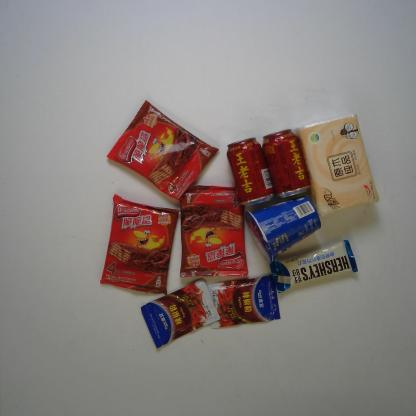Chocolate: (268, 239, 359, 294)
Dessert: (105, 99, 220, 201), (98, 193, 180, 296), (177, 183, 250, 278), (244, 195, 322, 261)
Drink: (224, 136, 275, 207), (262, 127, 312, 199)
Seasoner: (140, 278, 220, 349), (206, 274, 282, 329)
Tissue: (296, 112, 381, 214)
